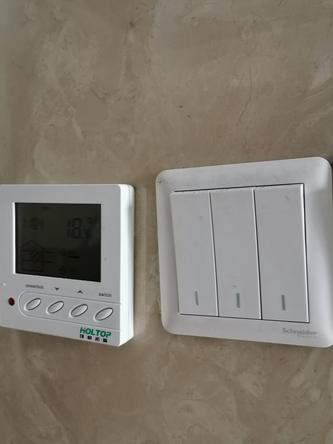switch: (251, 178, 315, 325), (205, 179, 265, 322), (166, 184, 227, 322)
